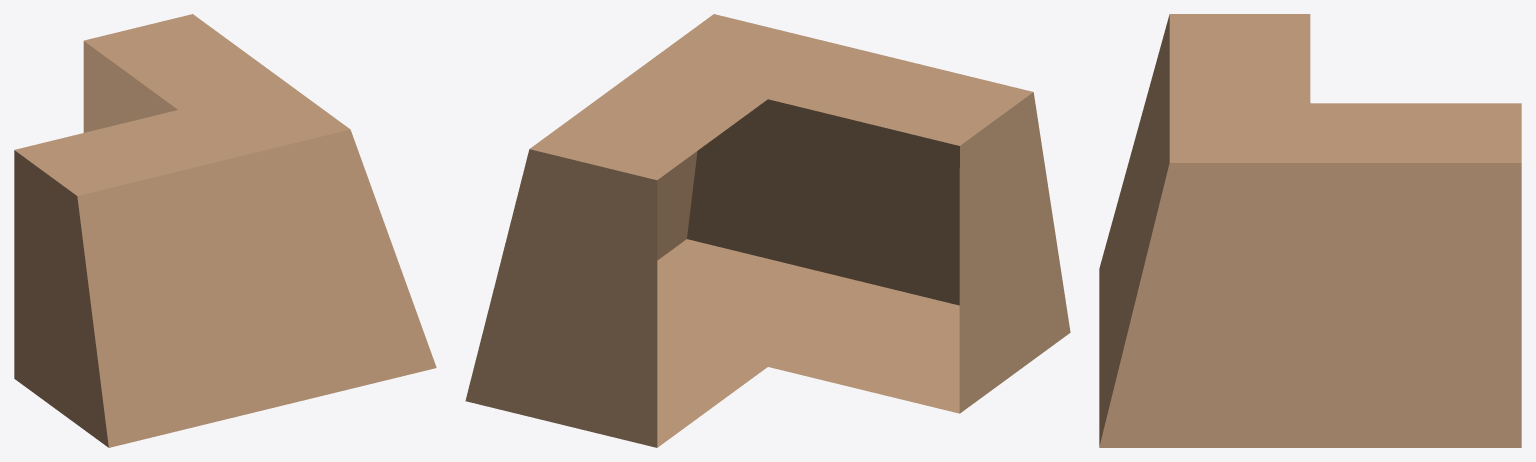
Rendered from DungeonOuterCorner.fbx.
3 renders of one model, left to right at view 1: azimuth 30°, elevation 25°; view 2: azimuth 150°, elevation 25°; view 3: azimuth 270°, elevation 25°, orthographic. The views are drawn at different scales.
Parts seen in each view (by area): view 1: Pillar.001; view 2: Pillar.001; view 3: Pillar.001.
Part boxes in pixels (x1=…): Pillar.001: x1=14, y1=14, x2=436, y2=447; Pillar.001: x1=465, y1=14, x2=1070, y2=447; Pillar.001: x1=1099, y1=14, x2=1521, y2=447.
Bounding box in the file's own units: 3 × 2 × 3.
